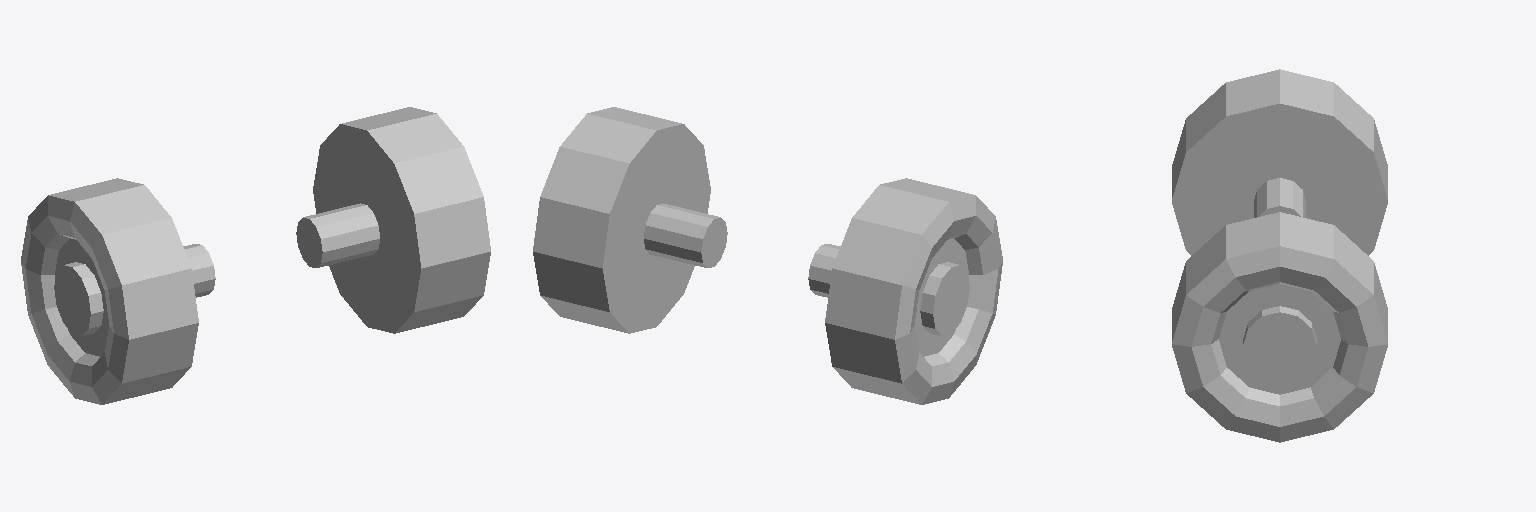
The model's file is rear_wheels.obj.
The picture shows the model from 3 angles: view 1: azimuth 30°, elevation 25°; view 2: azimuth 150°, elevation 25°; view 3: azimuth 270°, elevation 25°; orthographic projection.
Parts seen in each view (by area): view 1: rear_wheels_Cube.003; view 2: rear_wheels_Cube.003; view 3: rear_wheels_Cube.003.
Boxes of the visible parts, <box> form: rear_wheels_Cube.003: <box>21,107,490,404</box>; rear_wheels_Cube.003: <box>533,107,1002,404</box>; rear_wheels_Cube.003: <box>1172,69,1387,442</box>.
Size of the model in its own units: 2.6 by 1.31 by 1.31.